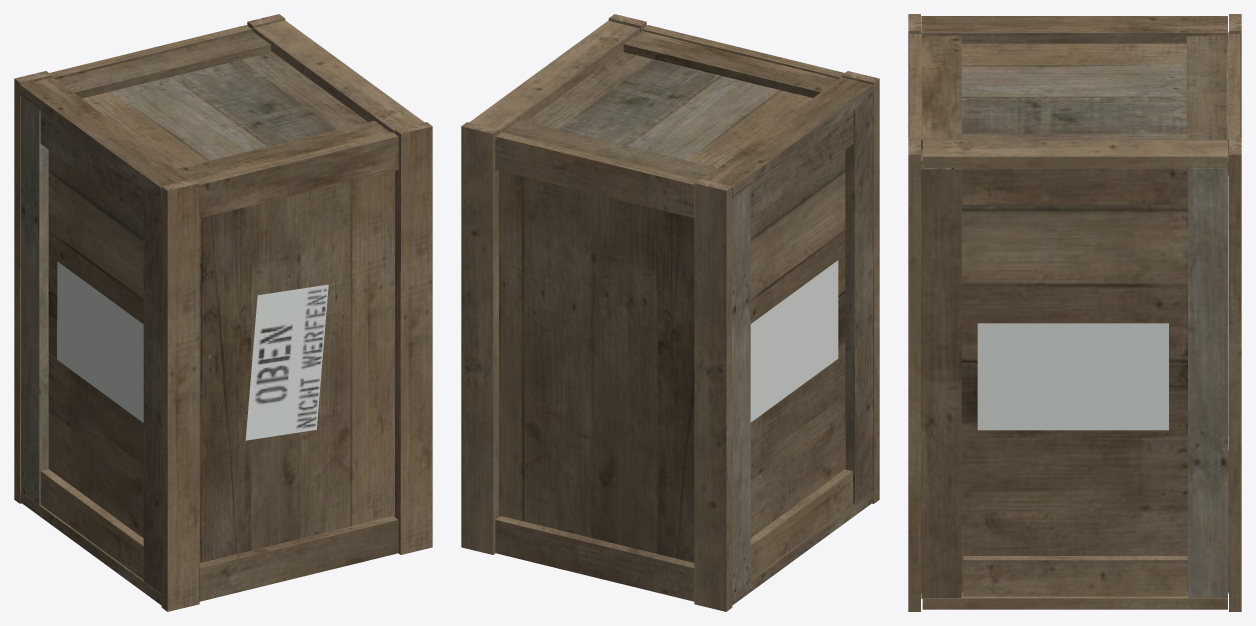
The model's file is prop_crate_wehrmacht6a.glb.
3 renders of one model, left to right at view 1: azimuth 30°, elevation 25°; view 2: azimuth 150°, elevation 25°; view 3: azimuth 270°, elevation 25°, orthographic. The views are drawn at different scales.
Bounding box in the file's own units: 23.76 × 36.07 × 23.82.
Materials: 2 (2 with a texture image).
